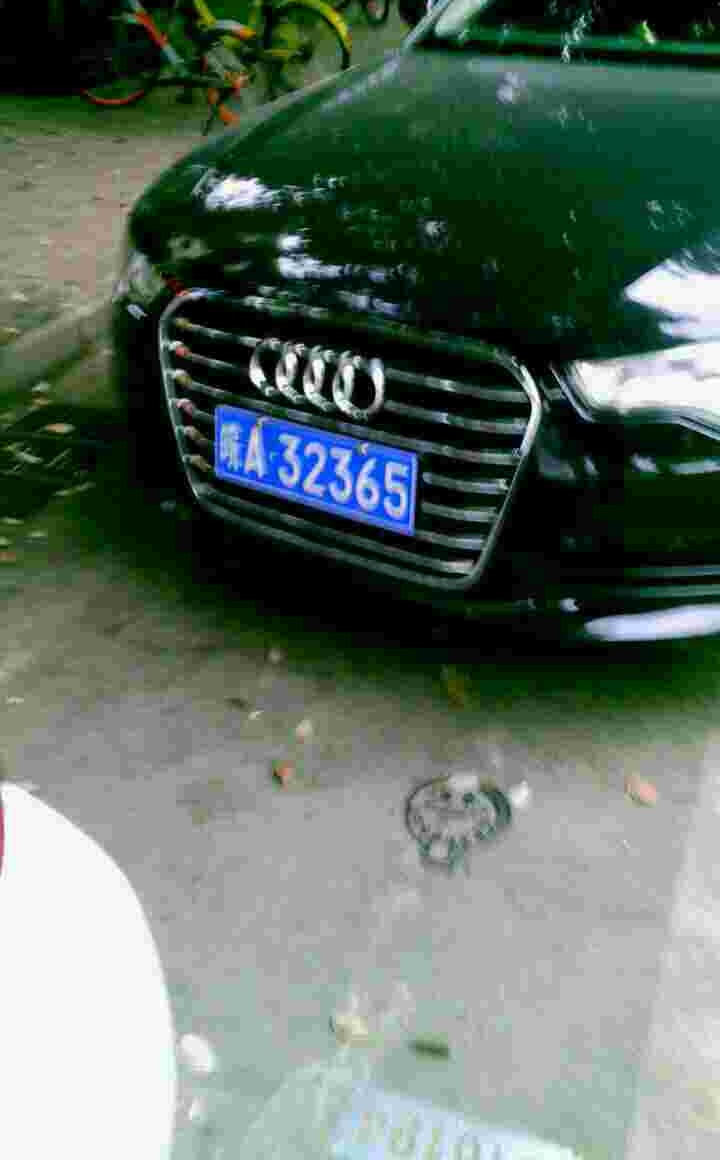license_plate: (215, 403, 418, 531)
